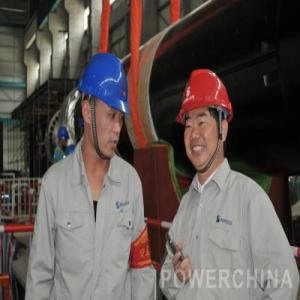blue: (81, 54, 129, 164), (57, 126, 70, 148)
red: (176, 65, 233, 173)
